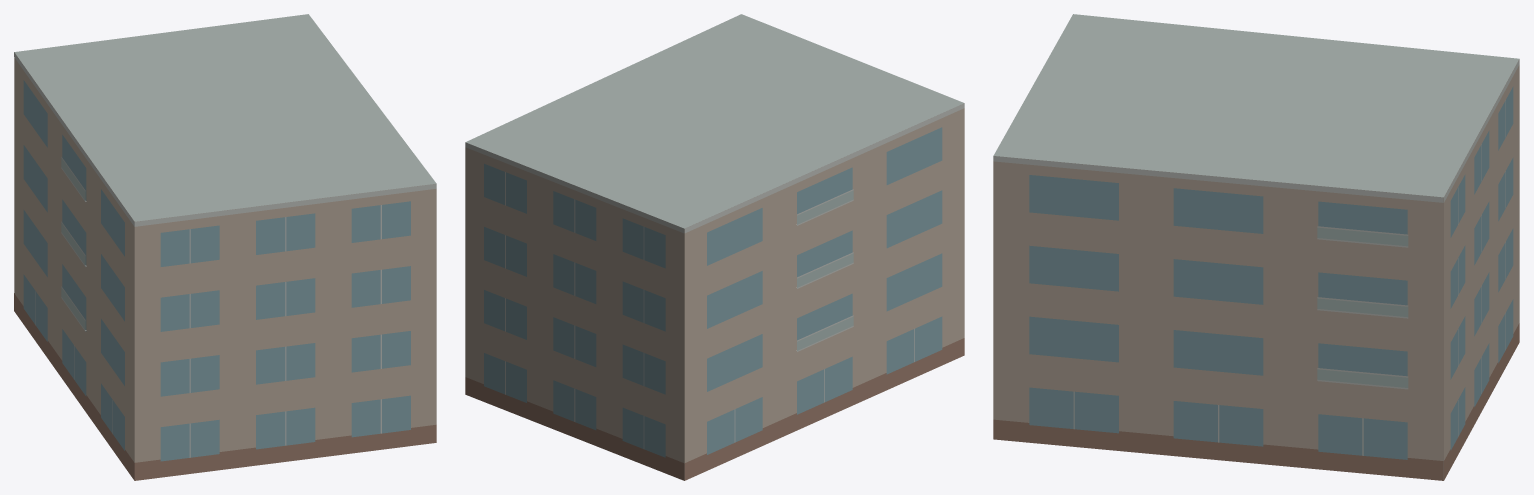
File: survey-upis-32861499.glb
3 renders of one model, left to right at view 1: azimuth 30°, elevation 25°; view 2: azimuth 150°, elevation 25°; view 3: azimuth 270°, elevation 25°, orthographic. The views are drawn at different scales.
Visible parts, largest first — view 1: survey-upis-32861499.tmp; view 2: survey-upis-32861499.tmp; view 3: survey-upis-32861499.tmp.
Boxes of the visible parts, x1=… form: survey-upis-32861499.tmp: x1=14, y1=14, x2=436, y2=480; survey-upis-32861499.tmp: x1=465, y1=14, x2=964, y2=480; survey-upis-32861499.tmp: x1=993, y1=14, x2=1519, y2=480.
Bounding box in the file's own units: 17.28 × 12.45 × 20.95.
